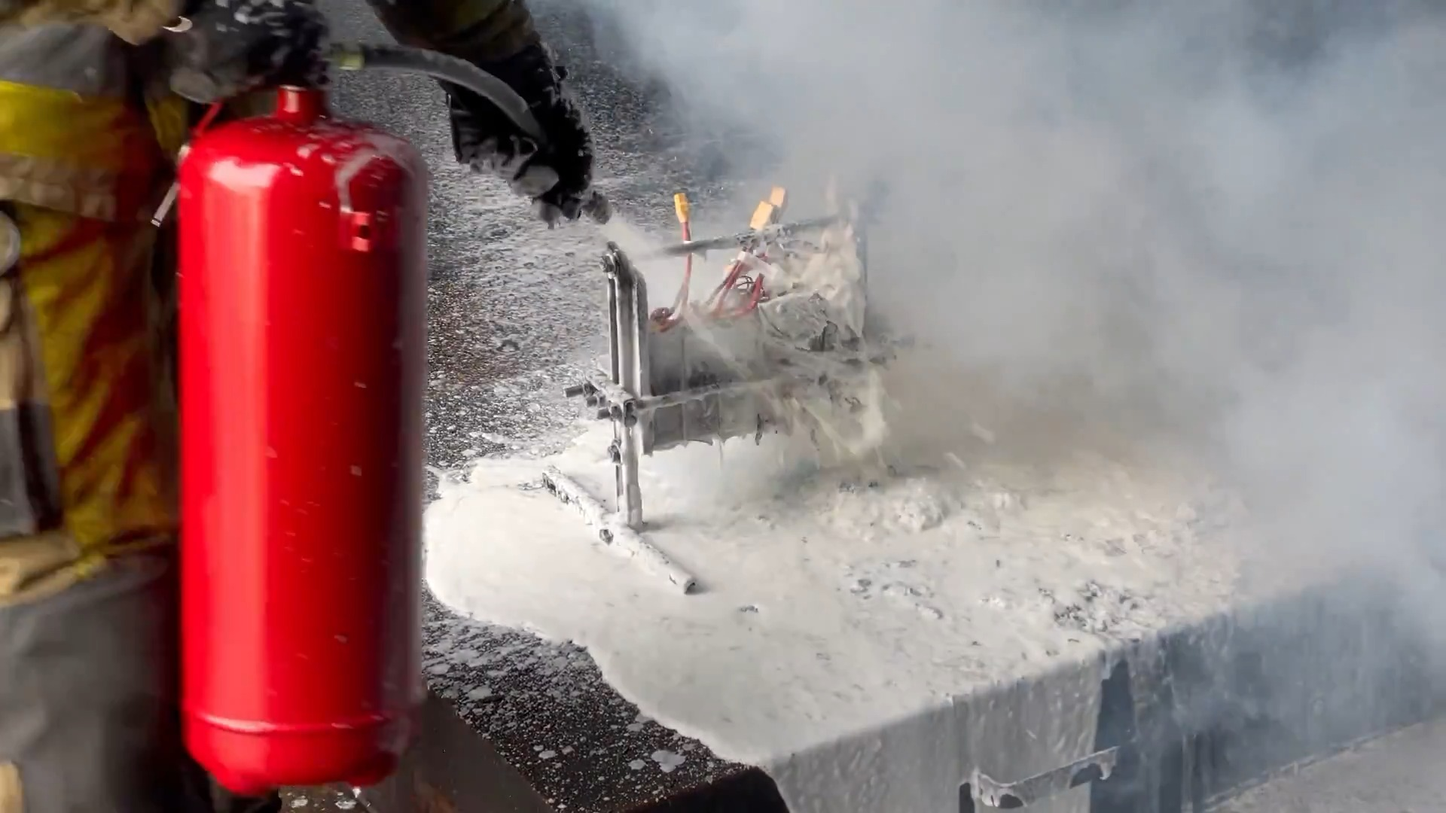smoke: (594, 18, 1437, 744)
